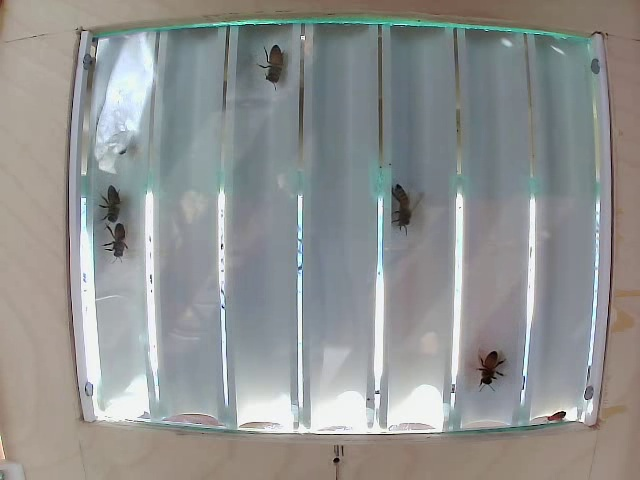bee: (383, 176, 426, 238), (255, 40, 296, 97), (471, 345, 508, 386), (96, 179, 127, 219), (108, 226, 138, 261)
